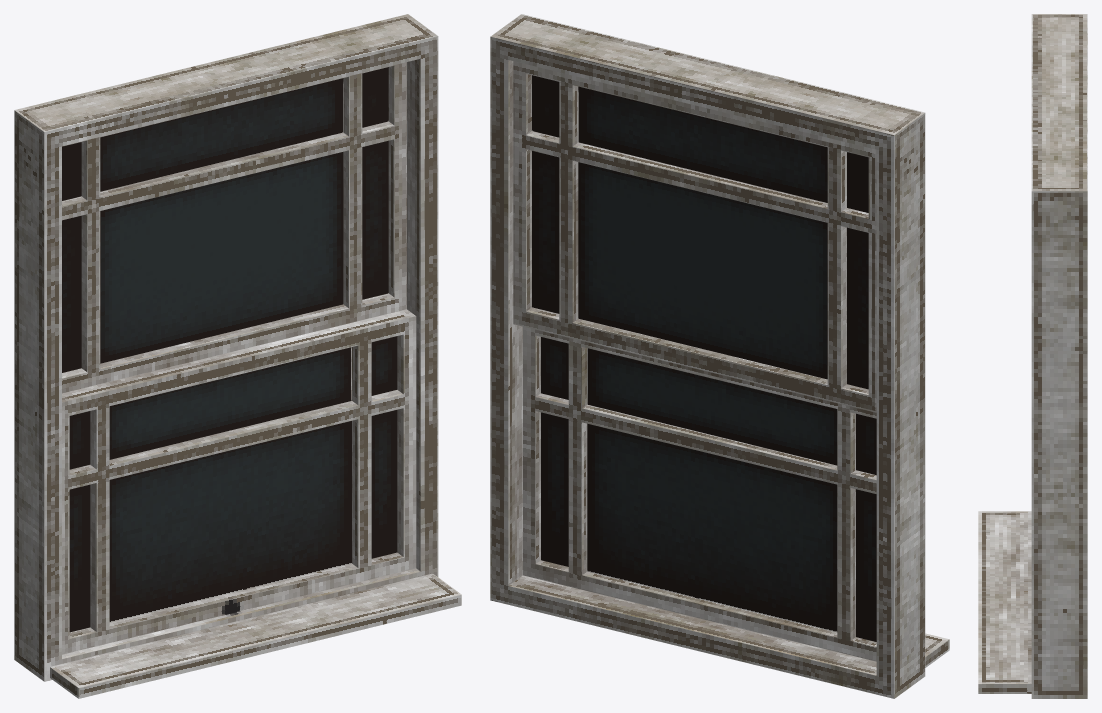
Rendered from Window.glb.
The picture shows the model from 3 angles, left to right: view 1: azimuth 30°, elevation 25°; view 2: azimuth 150°, elevation 25°; view 3: azimuth 270°, elevation 25°; orthographic projection. The views are drawn at different scales.
Parts seen in each view (by area): view 1: Window; view 2: Window; view 3: Window.
Part boxes in pixels (<box>): Window: <box>14,14,461,698</box>; Window: <box>490,14,949,698</box>; Window: <box>978,14,1087,698</box>.
Size of the model in its own units: 0.9 by 1.2 by 0.2339.
1 material, 1 textured.
